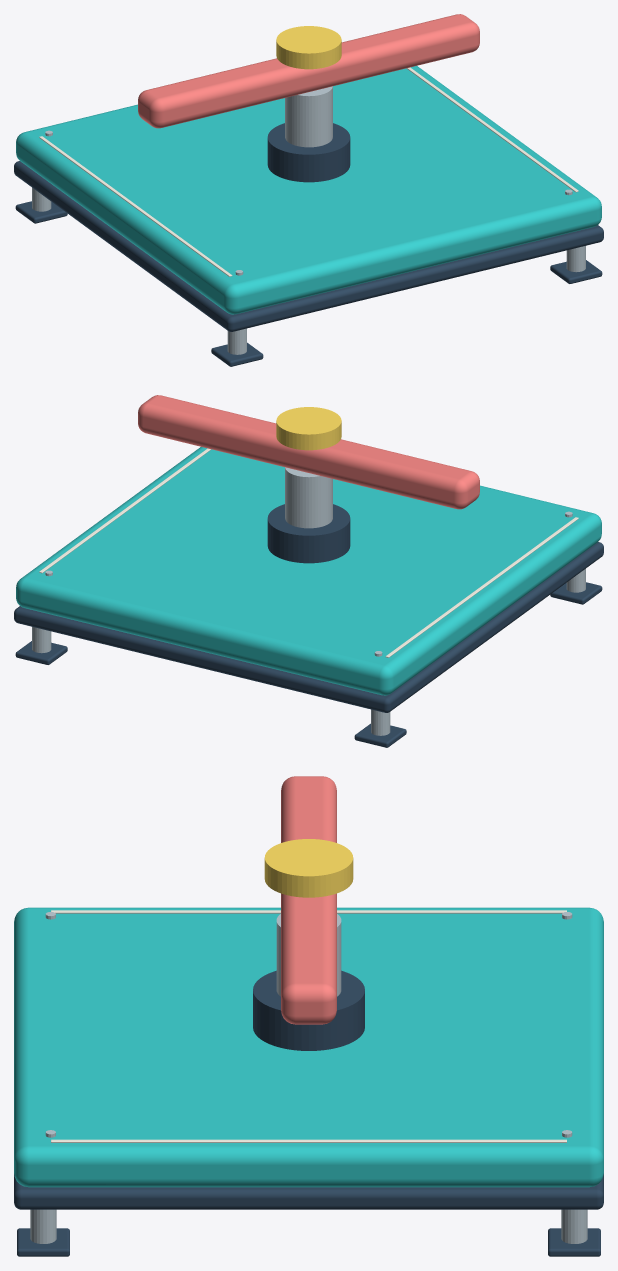
Rendered from party-obstacle-course-party-obstacle-course-rotating-s-21f0bd35__28933.glb.
3 views of the same model, one above another, from view 1: azimuth 30°, elevation 25°; view 2: azimuth 150°, elevation 25°; view 3: azimuth 270°, elevation 25° (orthographic). The views are drawn at different scales.
Parts seen in each view (by area): view 1: party-obstacle-course-rotating-sweeper, rotor; view 2: party-obstacle-course-rotating-sweeper, rotor; view 3: party-obstacle-course-rotating-sweeper, rotor.
Boxes of the visible parts, x1,y1,x2,y2 form: party-obstacle-course-rotating-sweeper: (14, 26, 603, 366); rotor: (138, 14, 479, 128); party-obstacle-course-rotating-sweeper: (14, 407, 603, 747); rotor: (138, 395, 479, 509); party-obstacle-course-rotating-sweeper: (14, 839, 603, 1256); rotor: (281, 776, 336, 1024).
Size of the model in its own units: 4 by 2.07 by 4.
